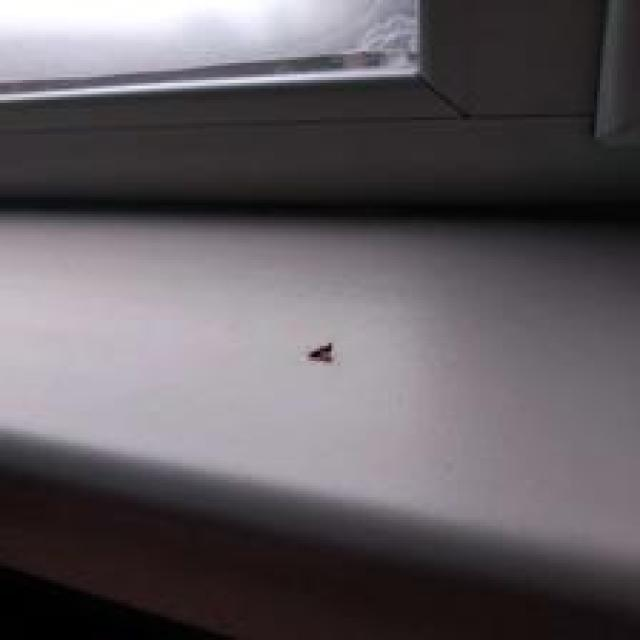Culex: (309, 340, 334, 363)
